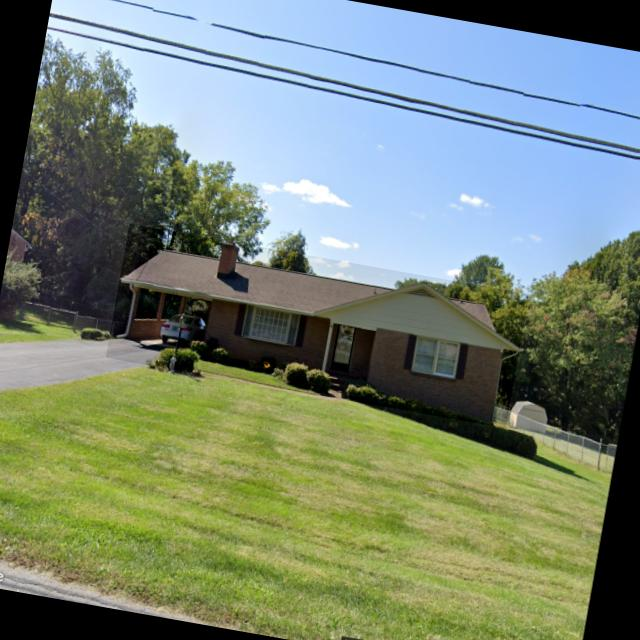House: (106, 223, 529, 428)
